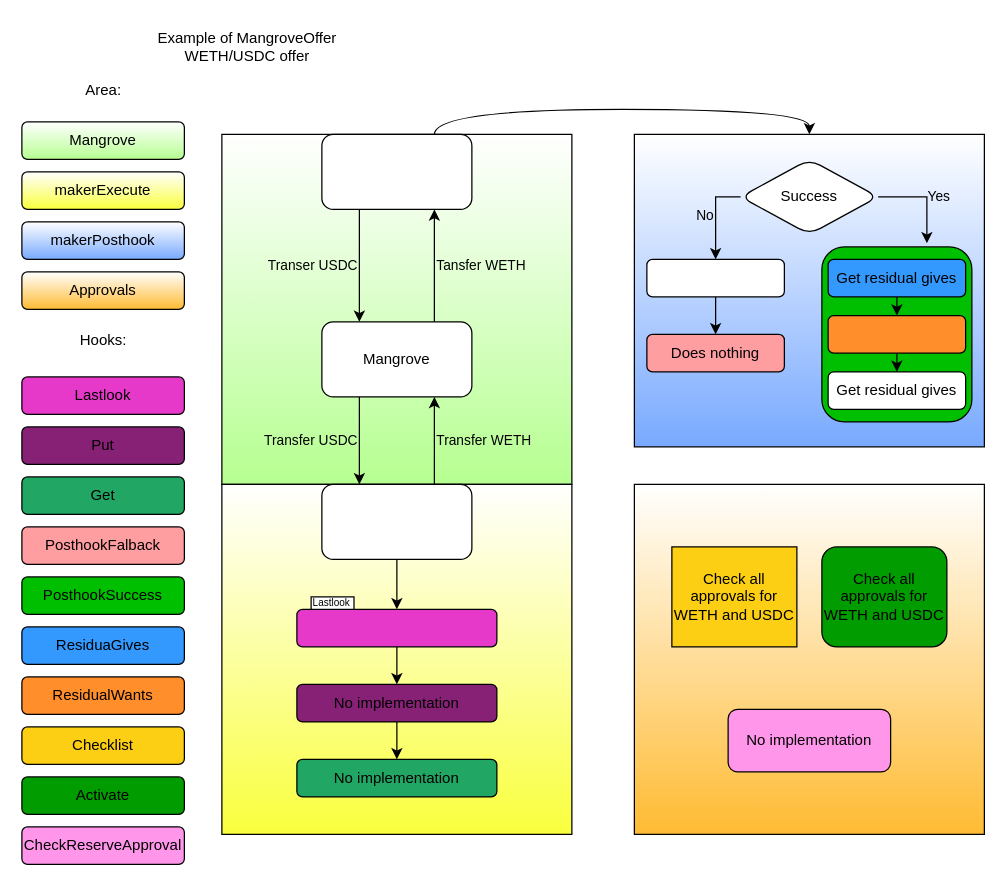
Some shapes in this 1006 by 886 pixel diagram are drawn without their labels. Here are the shapes that lost their labels. From the top down, the centre of each, then its label:
pixel 396 171: Taker
pixel 715 277: Logs failed transfer
pixel 896 333: Get residual wants
pixel 396 521: MangroveOffer contract
pixel 396 627: Signals "mgvOffer/proceed"
